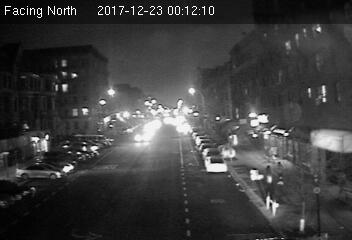car: (203, 154, 229, 173), (133, 131, 152, 142)
